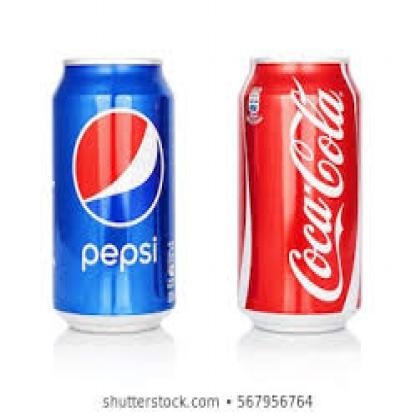Compsot: (235, 58, 362, 332), (52, 58, 175, 332)
